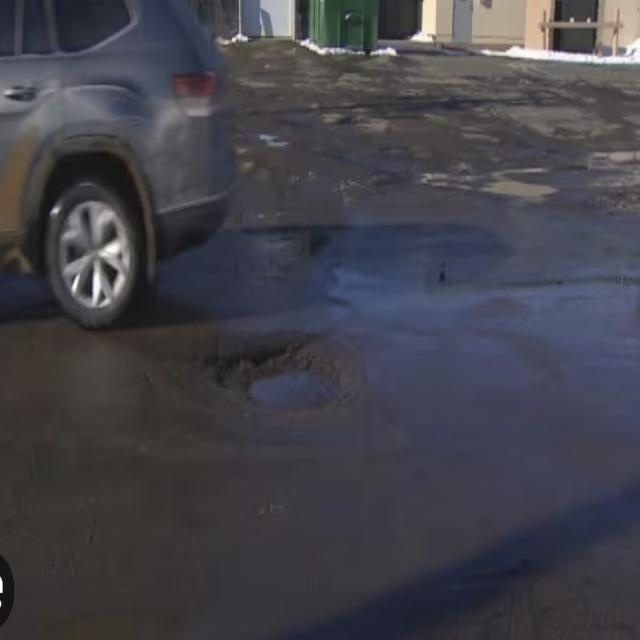pothole: (218, 315, 362, 437)
